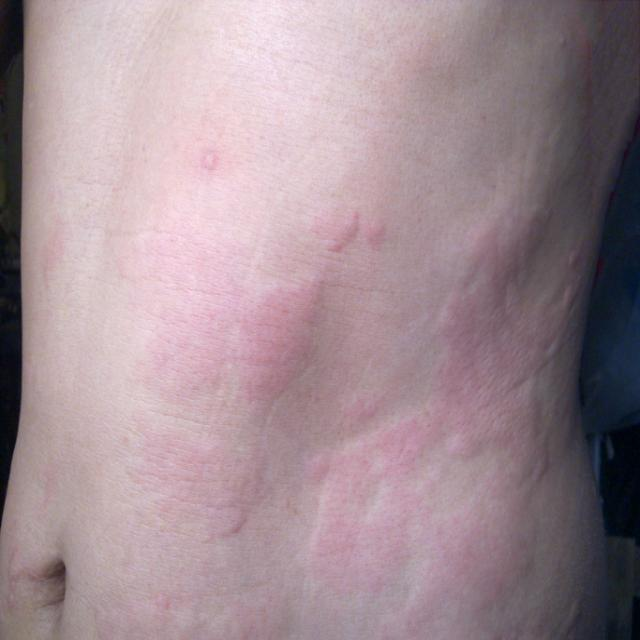hives: (150, 25, 632, 605)
